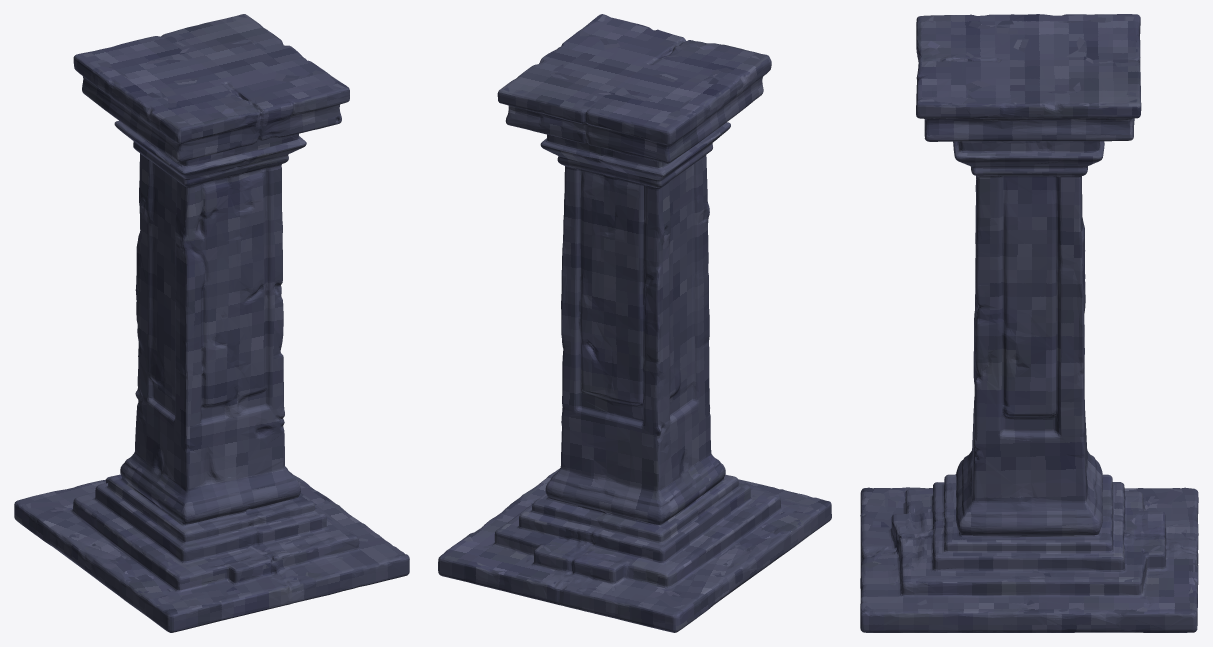
The model's file is weathered-monolith-pillar-generated-2026-04-19T23-48-08-244Z.medium.glb.
3 renders of one model, left to right at view 1: azimuth 30°, elevation 25°; view 2: azimuth 150°, elevation 25°; view 3: azimuth 270°, elevation 25°, orthographic. The views are drawn at different scales.
Visible parts, largest first — view 1: temp_mesh.ply; view 2: temp_mesh.ply; view 3: temp_mesh.ply.
Boxes of the visible parts, box(x1,y1,x2,y2) form: temp_mesh.ply: box(14, 14, 409, 632); temp_mesh.ply: box(438, 14, 831, 632); temp_mesh.ply: box(860, 14, 1198, 632).
Bounding box in the file's own units: 1.05 × 1.97 × 1.18.
1 material, 1 textured.
